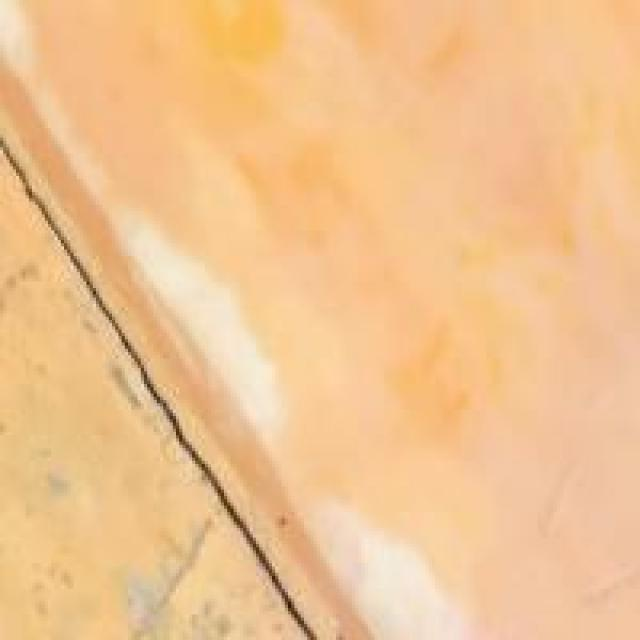crack: (0, 131, 326, 636)
